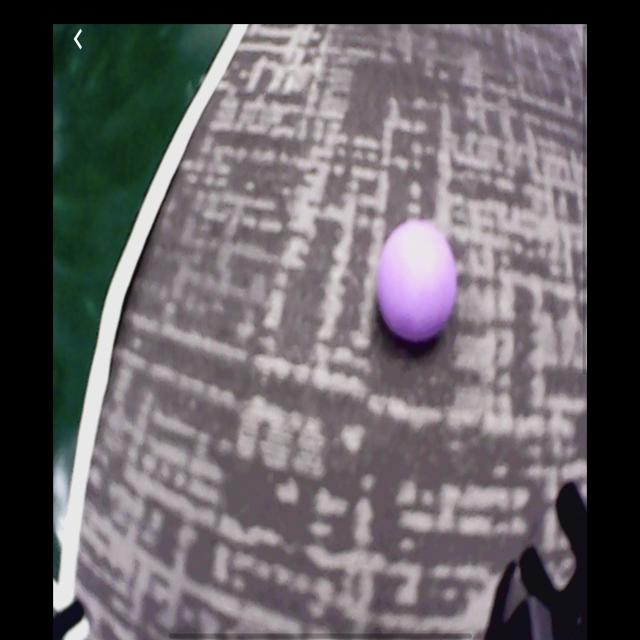ball: (378, 222, 456, 341)
